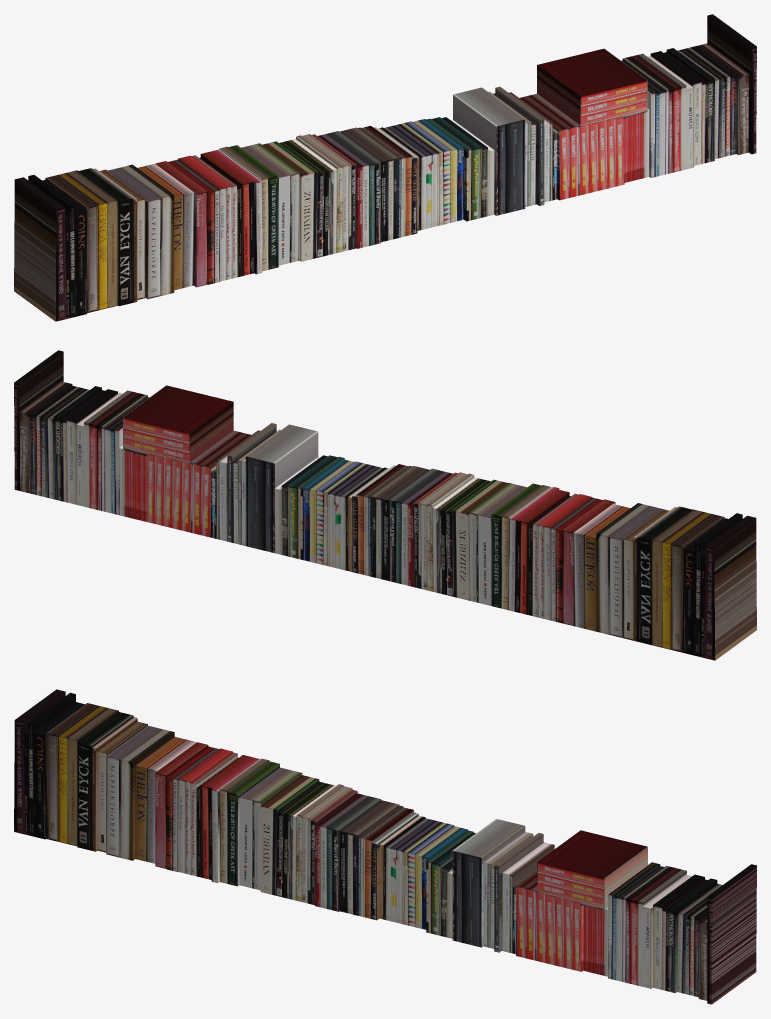
The model's file is bookrow4.gltf.
3 renders of one model, top to bottom at view 1: azimuth 30°, elevation 25°; view 2: azimuth 150°, elevation 25°; view 3: azimuth 330°, elevation 25°, orthographic.
Visible parts, largest first — view 1: books3; view 2: books3; view 3: books3.
Part boxes in pixels (bbox=[...]): books3: bbox=[14, 14, 756, 321]; books3: bbox=[14, 350, 756, 660]; books3: bbox=[14, 689, 756, 1004].
Size of the model in its own units: 2.42 by 0.3698 by 0.265.
Materials: 1 (1 with a texture image).
